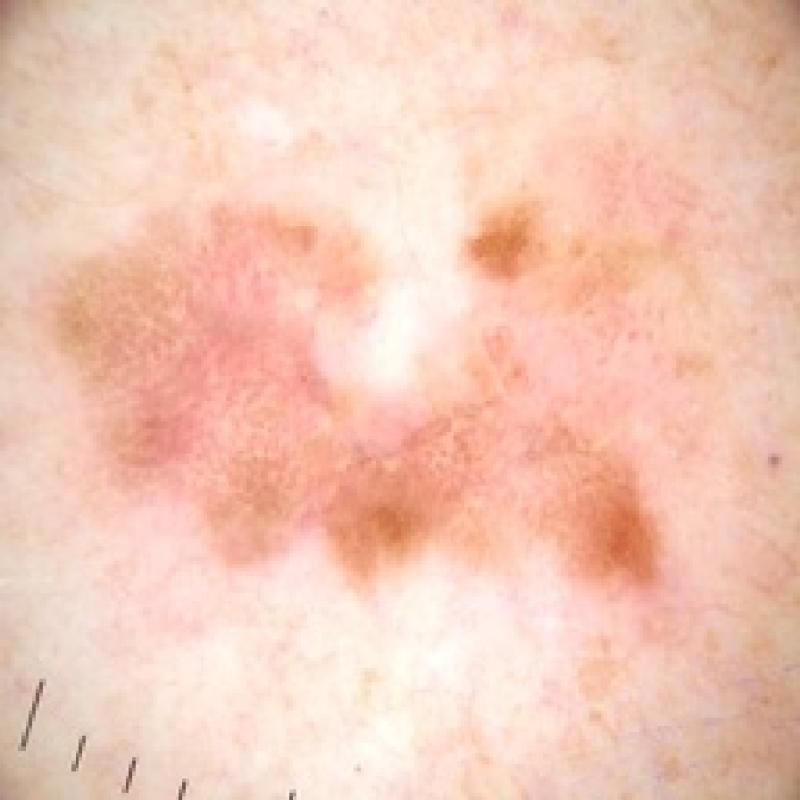malignant: (34, 150, 700, 646)
